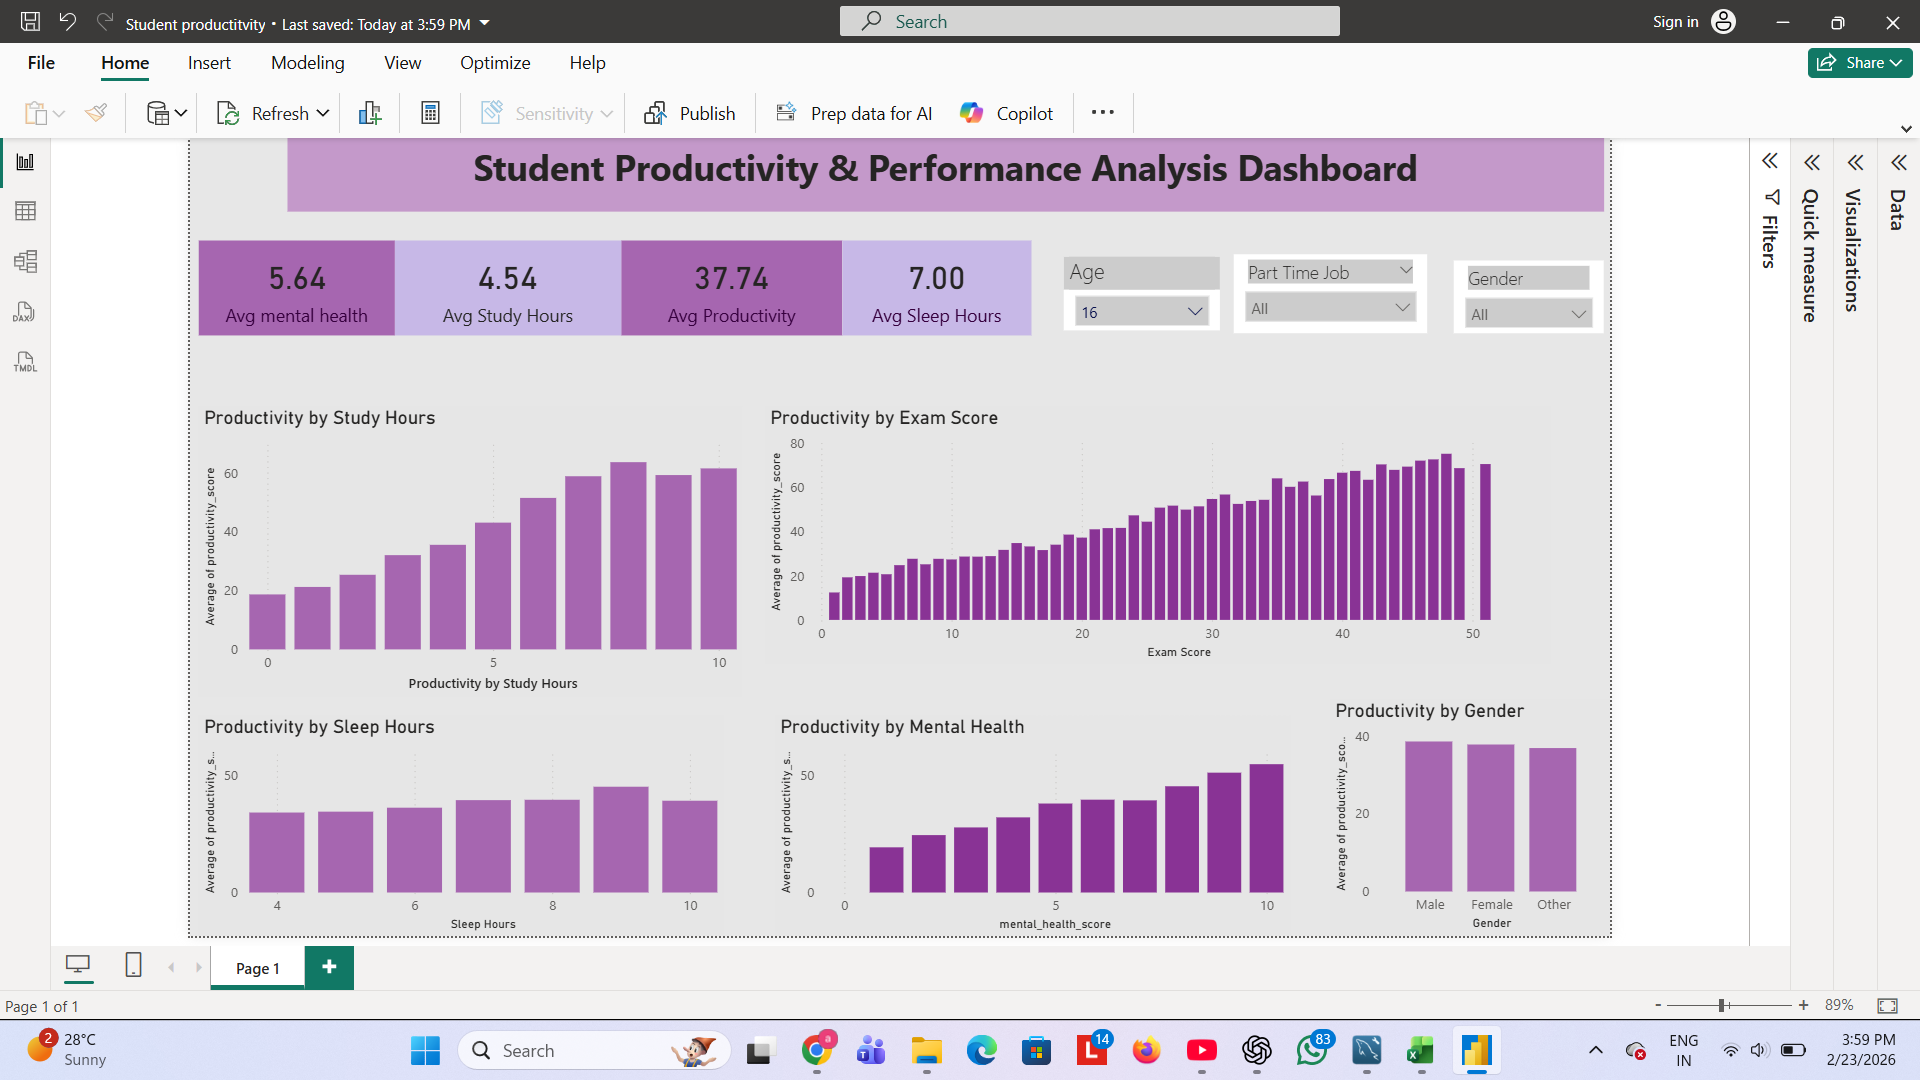

What the dashboard file says about the page in this screenshot:
{"tool":"powerbi","page":{"name":"Page 1","canvas":[1280,720],"ordinal":0},"visuals":[{"type":"card","fields":{"Values":["student_productivity_dataset.Avg mental health"]},"box":[7.9,92.4,177,85.7],"z":0},{"type":"card","fields":{"Values":["student_productivity_dataset.Avg Productivity"]},"box":[388.9,92.4,199.5,85.7],"z":1},{"type":"card","fields":{"Values":["student_productivity_dataset.Avg Sleep Hours"]},"box":[588.4,92.4,170.2,85.7],"z":2},{"type":"card","fields":{"Values":["student_productivity_dataset.Avg Study Hours"]},"box":[184.8,92.4,204,85.7],"z":3},{"type":"clusteredColumnChart","title":"Productivity by Study Hours","fields":{"Category":["student_productivity_dataset.study_hours (bins) 2"],"Y":["Avg(student_productivity_dataset.productivity_score)"]},"box":[7.5,242,490.3,262],"z":4},{"type":"clusteredColumnChart","title":"Productivity by Sleep Hours","fields":{"Category":["student_productivity_dataset.sleep_hours (bins)"],"Y":["Avg(student_productivity_dataset.productivity_score)"]},"box":[7.5,520.2,472.8,199.6],"z":5},{"type":"clusteredColumnChart","title":"Productivity by Mental Health","fields":{"Category":["student_productivity_dataset.mental_health_score"],"Y":["Avg(student_productivity_dataset.productivity_score)"]},"box":[527.7,520.2,465.3,199.6],"z":6},{"type":"clusteredColumnChart","title":"Productivity by Gender","fields":{"Y":["Avg(student_productivity_dataset.productivity_score)"],"Category":["student_productivity_dataset.gender"]},"box":[1028,506.5,252,213.3],"z":7},{"type":"clusteredColumnChart","title":"Productivity by Exam Score","fields":{"Y":["Avg(student_productivity_dataset.productivity_score)"],"Category":["student_productivity_dataset.exam_score (bins)"]},"box":[518.5,242.3,709,232.2],"z":8},{"type":"slicer","title":"Age","fields":{"Values":["student_productivity_dataset.age"]},"box":[787.9,107.1,140.9,66.5],"z":9},{"type":"slicer","fields":{"Values":["student_productivity_dataset.part_time_job"]},"box":[941.1,104.8,174.7,71],"z":10},{"type":"slicer","fields":{"Values":["student_productivity_dataset.gender"]},"box":[1139.5,110.5,135.3,65.4],"z":11},{"type":"textbox","box":[87.9,0,1186.9,66.5],"z":13}]}

Visuals, with their boxes on the page's 1280x720 design canvas (x1, y1, x2, y2). These are canvas units, not pixel positions in the 1920x1080 screenshot, which may show the page scaled, cropped or inside an application window:
card - student_productivity_dataset.Avg mental health: left=8, top=92, right=185, bottom=178
card - student_productivity_dataset.Avg Productivity: left=389, top=92, right=588, bottom=178
card - student_productivity_dataset.Avg Sleep Hours: left=588, top=92, right=759, bottom=178
card - student_productivity_dataset.Avg Study Hours: left=185, top=92, right=389, bottom=178
"Productivity by Study Hours" clusteredColumnChart: left=8, top=242, right=498, bottom=504
"Productivity by Sleep Hours" clusteredColumnChart: left=8, top=520, right=480, bottom=720
"Productivity by Mental Health" clusteredColumnChart: left=528, top=520, right=993, bottom=720
"Productivity by Gender" clusteredColumnChart: left=1028, top=506, right=1280, bottom=720
"Productivity by Exam Score" clusteredColumnChart: left=518, top=242, right=1228, bottom=474
"Age" slicer: left=788, top=107, right=929, bottom=174
slicer - student_productivity_dataset.part_time_job: left=941, top=105, right=1116, bottom=176
slicer - student_productivity_dataset.gender: left=1140, top=110, right=1275, bottom=176
textbox: left=88, top=0, right=1275, bottom=66
